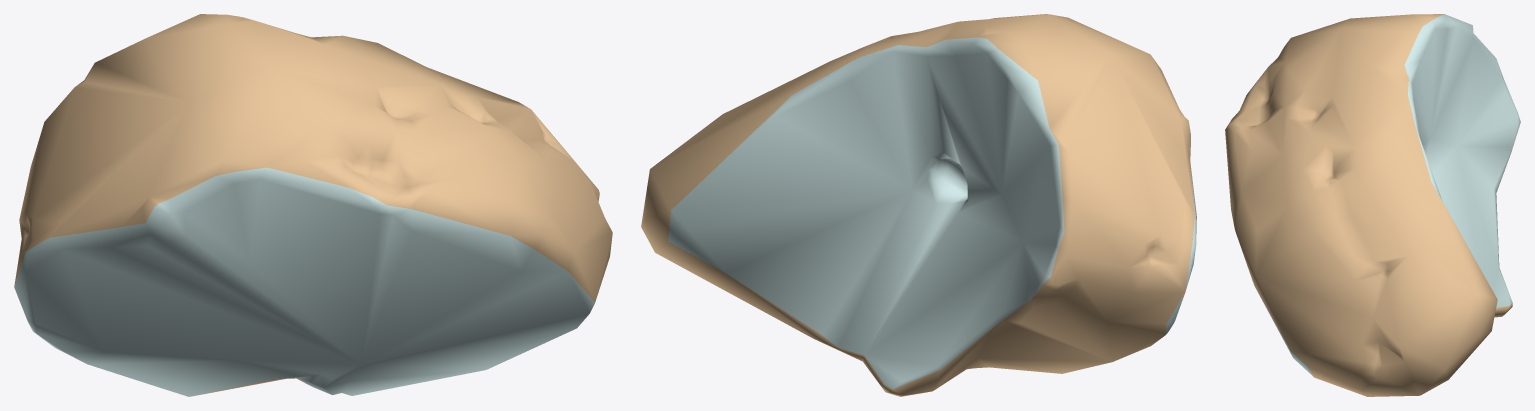
Rendered from Navicular_bone.r_Generated_Mesh_From_X3D.279.glb.
3 renders of one model, left to right at view 1: azimuth 30°, elevation 25°; view 2: azimuth 150°, elevation 25°; view 3: azimuth 270°, elevation 25°, orthographic. The views are drawn at different scales.
Visible parts, largest first — view 1: Navicular_bone.r_Generated_Mesh_From_X3D.279; view 2: Navicular_bone.r_Generated_Mesh_From_X3D.279; view 3: Navicular_bone.r_Generated_Mesh_From_X3D.279.
Part boxes in pixels (x1,y1,x2,y2): Navicular_bone.r_Generated_Mesh_From_X3D.279: (14,14,612,396); Navicular_bone.r_Generated_Mesh_From_X3D.279: (641,14,1196,396); Navicular_bone.r_Generated_Mesh_From_X3D.279: (1225,14,1520,396).
Size of the model in its own units: 0.0407 by 0.0259 by 0.024.
